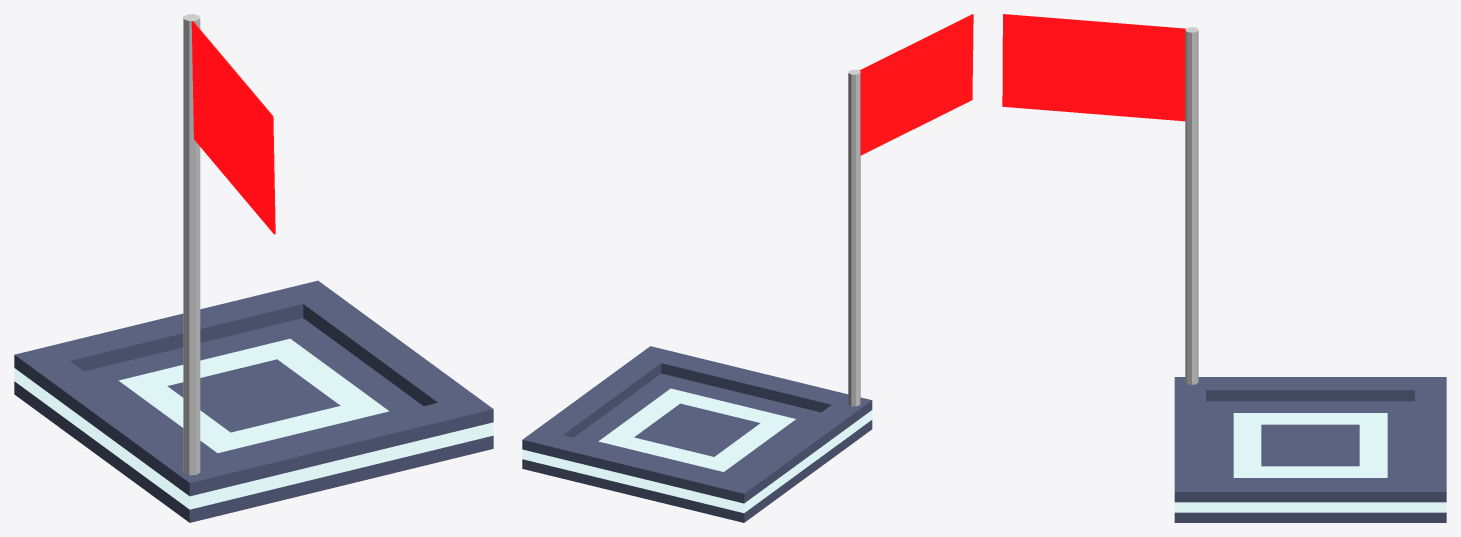
Rendered from Flag.fbx.
3 renders of one model, left to right at view 1: azimuth 30°, elevation 25°; view 2: azimuth 150°, elevation 25°; view 3: azimuth 270°, elevation 25°, orthographic. The views are drawn at different scales.
Parts seen in each view (by area): view 1: SavePoint.Main, Flag, FlagPole; view 2: SavePoint.Main, Flag, FlagPole; view 3: SavePoint.Main, Flag, FlagPole.
Part boxes in pixels (x1,y1,x2,y2): SavePoint.Main: (14,280,493,522); Flag: (191,21,275,234); FlagPole: (183,14,200,475); SavePoint.Main: (522,346,872,522); Flag: (859,14,973,155); FlagPole: (848,69,860,406); SavePoint.Main: (1174,377,1446,522); Flag: (1002,14,1185,121); FlagPole: (1185,27,1198,384).
Size of the model in its own units: 109 by 156 by 163.
